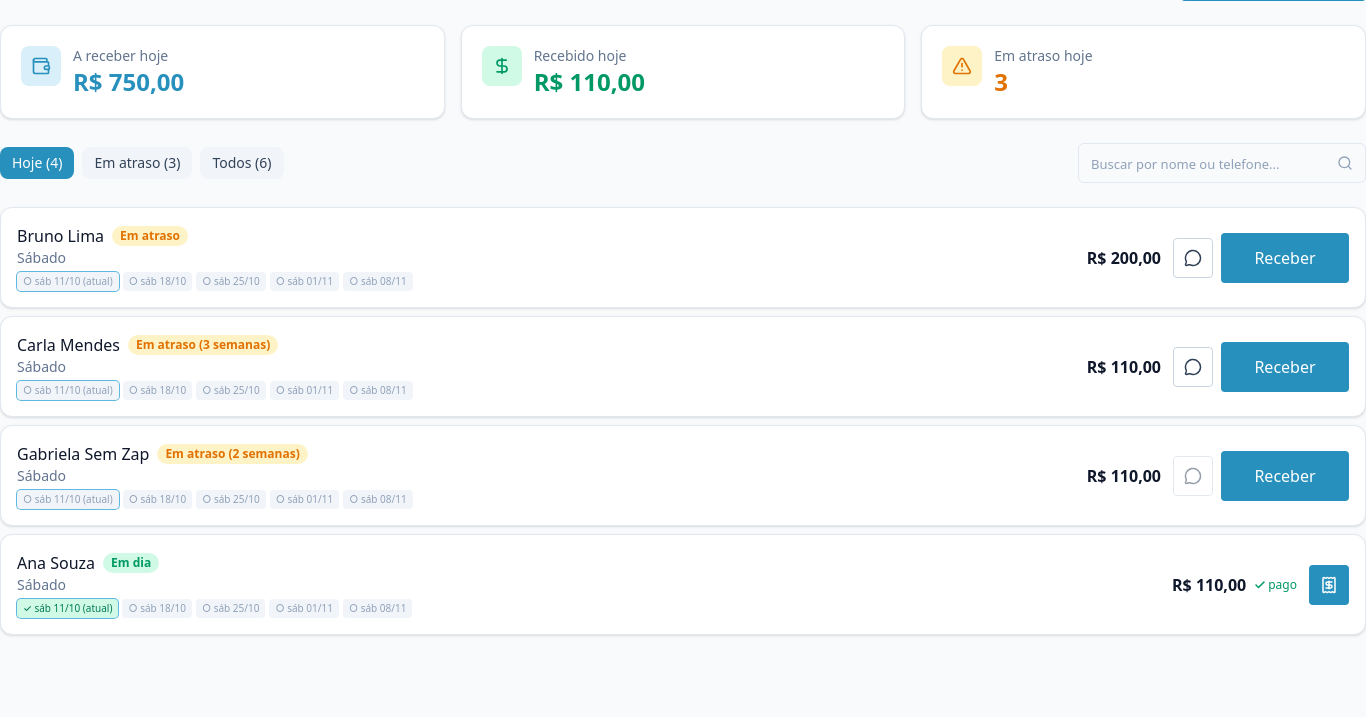
Test case: Cobranças: situação de cada cliente › cliente que pagou semanas à frente aparece como "Adiantado até qua 15/10"
Step 1. Click the button "Todos (6)" → {"x": 242, "y": 163}, box [200,147,284,179]
(page scrolled)
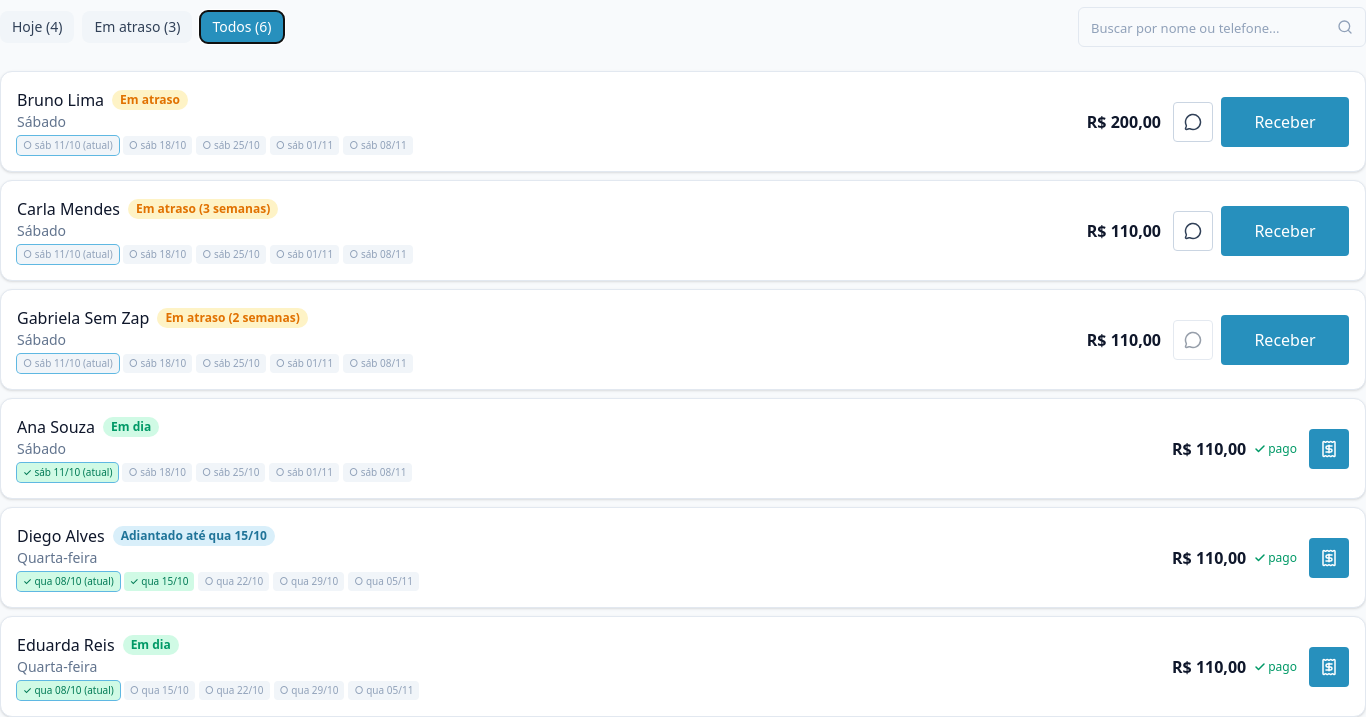
Now the text "Adiantado até qua 15/10" is shown, box [113,526,275,546]
Now the text "Em dia" next to "Eduarda Reis" is shown, box [131,636,171,653]
